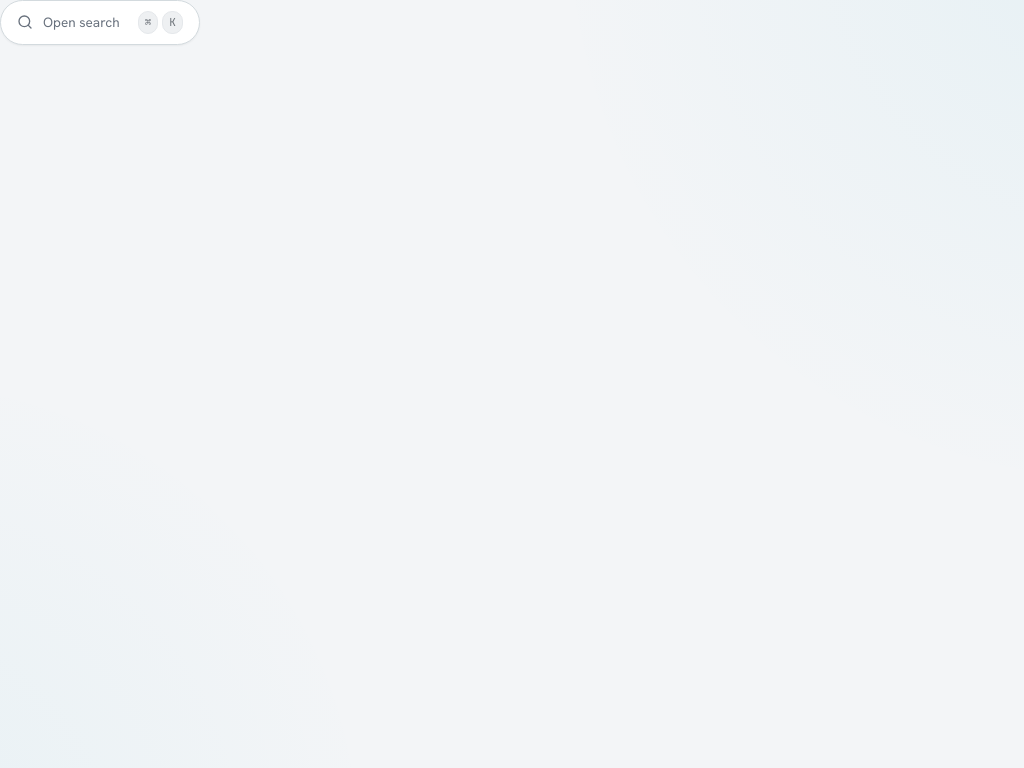
CommandPalette a11y (ISSUE-226) › names the search field by its accessible name
Click the button "Open search ⌘ K": (100, 22) top-left (0, 0), bottom-right (200, 44)
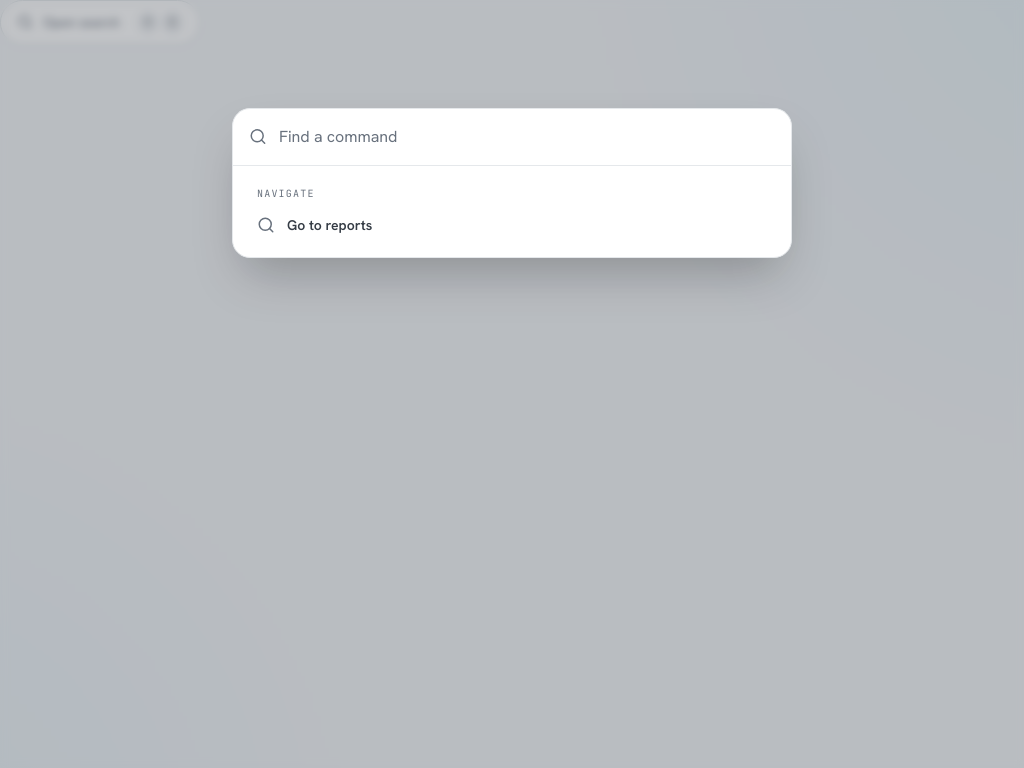
Expected: the dropdown labelled "Find a command" is shown, top-left (279, 124), bottom-right (775, 148)
